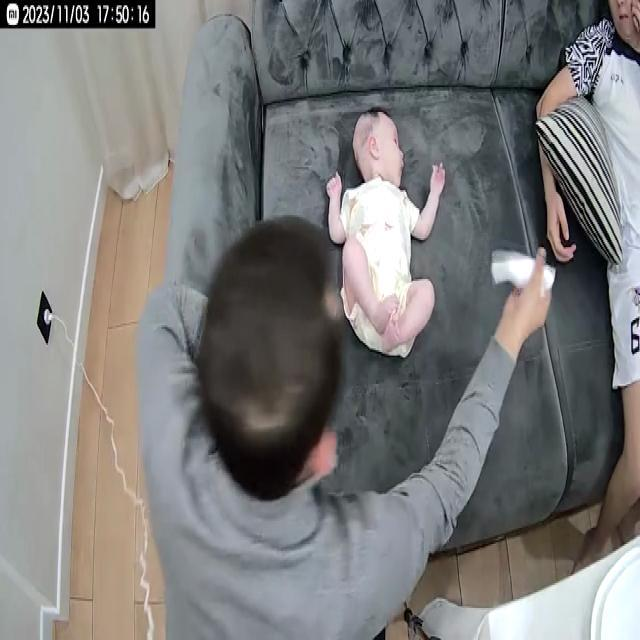baby: (322, 106, 448, 372)
